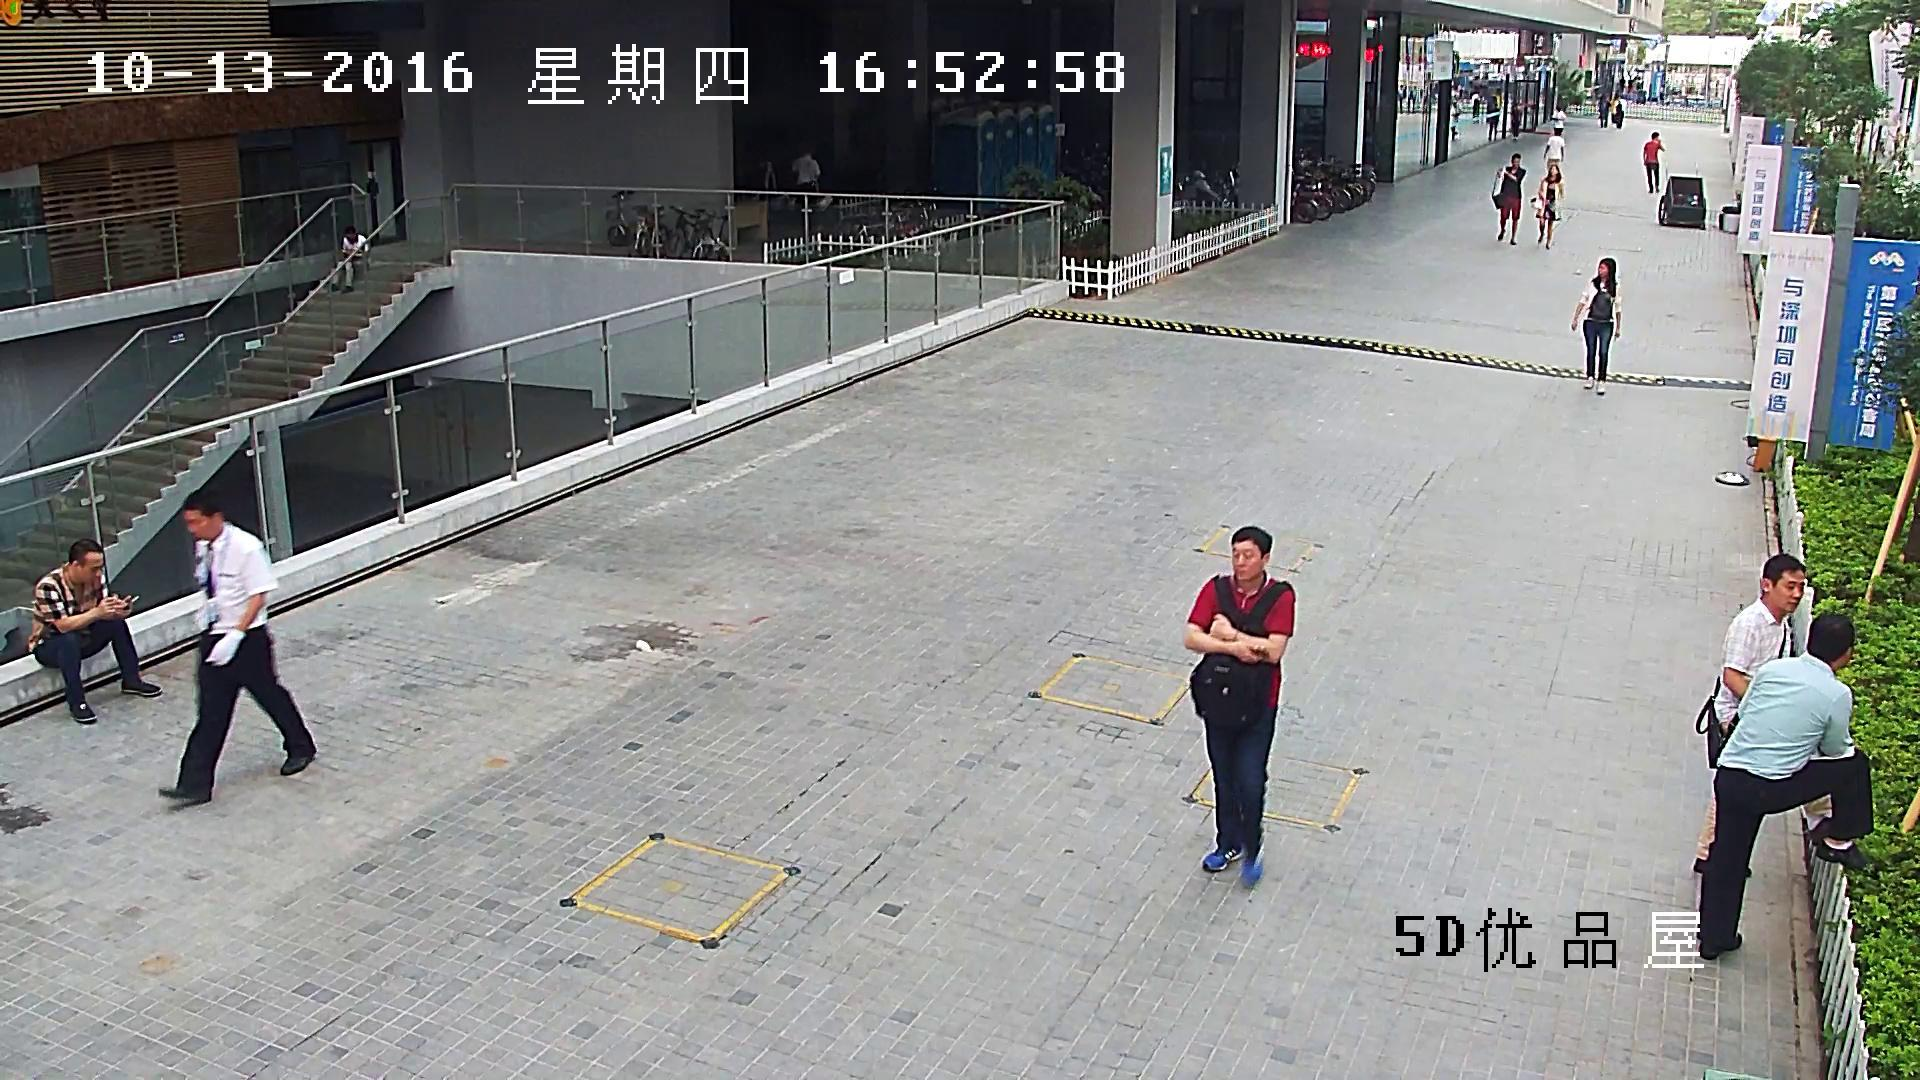person: (1694, 609, 1875, 963), (156, 488, 319, 804), (1180, 523, 1298, 891), (1691, 550, 1807, 880), (25, 536, 162, 724), (1571, 257, 1622, 395), (1529, 164, 1565, 250), (1491, 153, 1526, 245), (329, 225, 371, 294), (790, 147, 821, 205), (1643, 130, 1665, 192), (1543, 129, 1566, 171), (1510, 98, 1523, 140), (1486, 103, 1500, 140), (1611, 94, 1626, 129), (1596, 92, 1610, 128), (1449, 101, 1461, 142), (1551, 105, 1566, 136)
